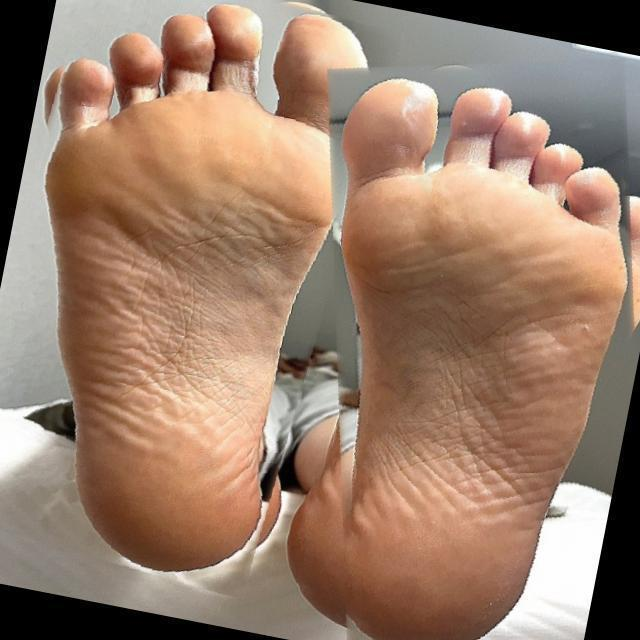No_Shoes: (336, 64, 629, 640), (36, 0, 329, 545)
